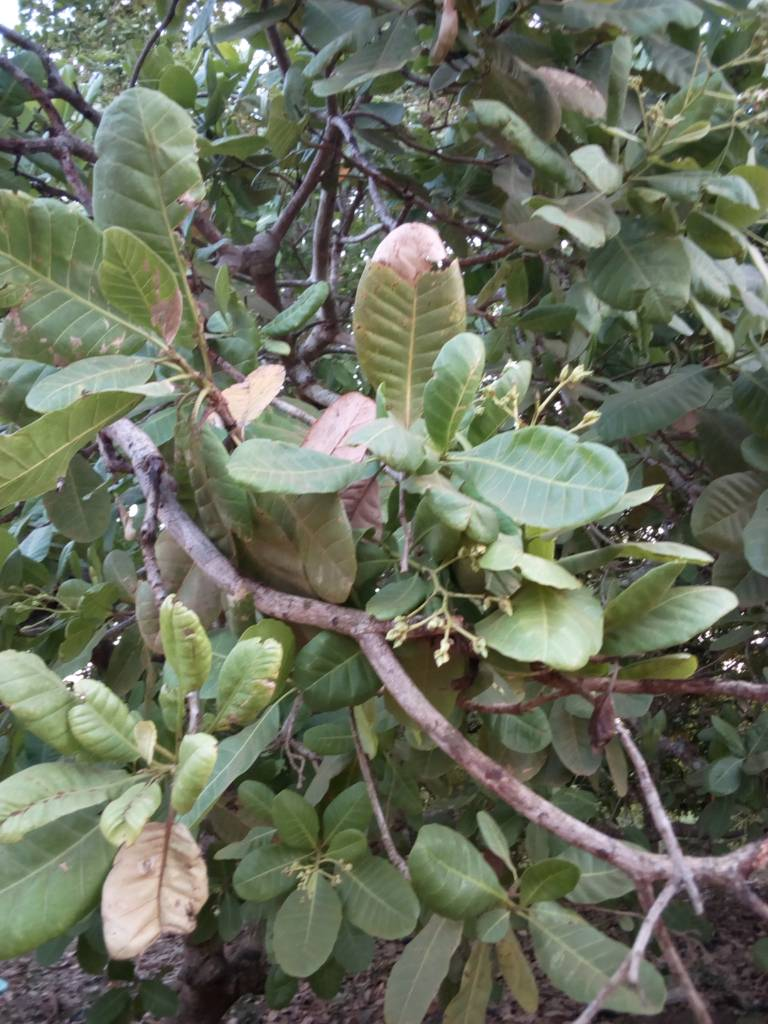Bactériose: (1, 200, 180, 360), (352, 225, 479, 347)
